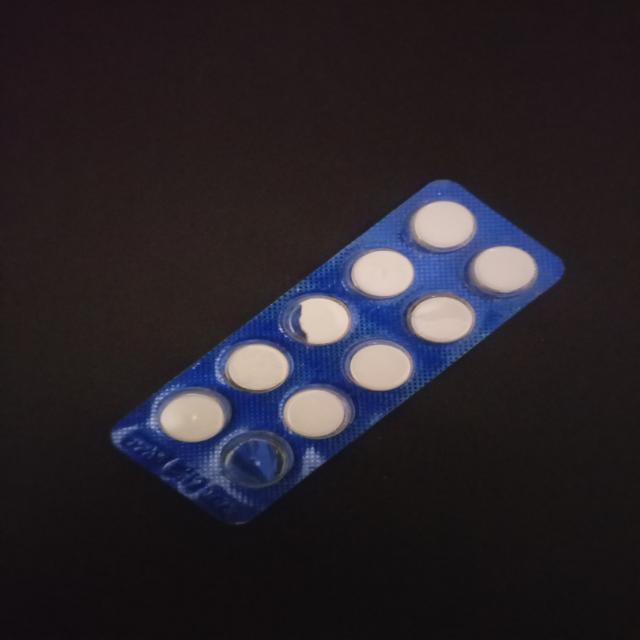defect: (219, 429, 298, 491), (277, 291, 355, 347)
